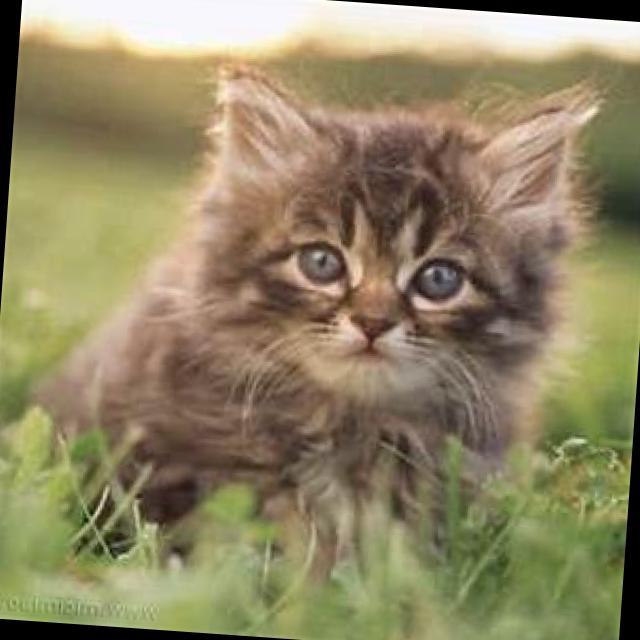animal: (0, 35, 617, 618)
